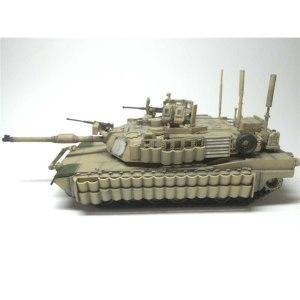Battle Tank: (1, 96, 300, 211)
